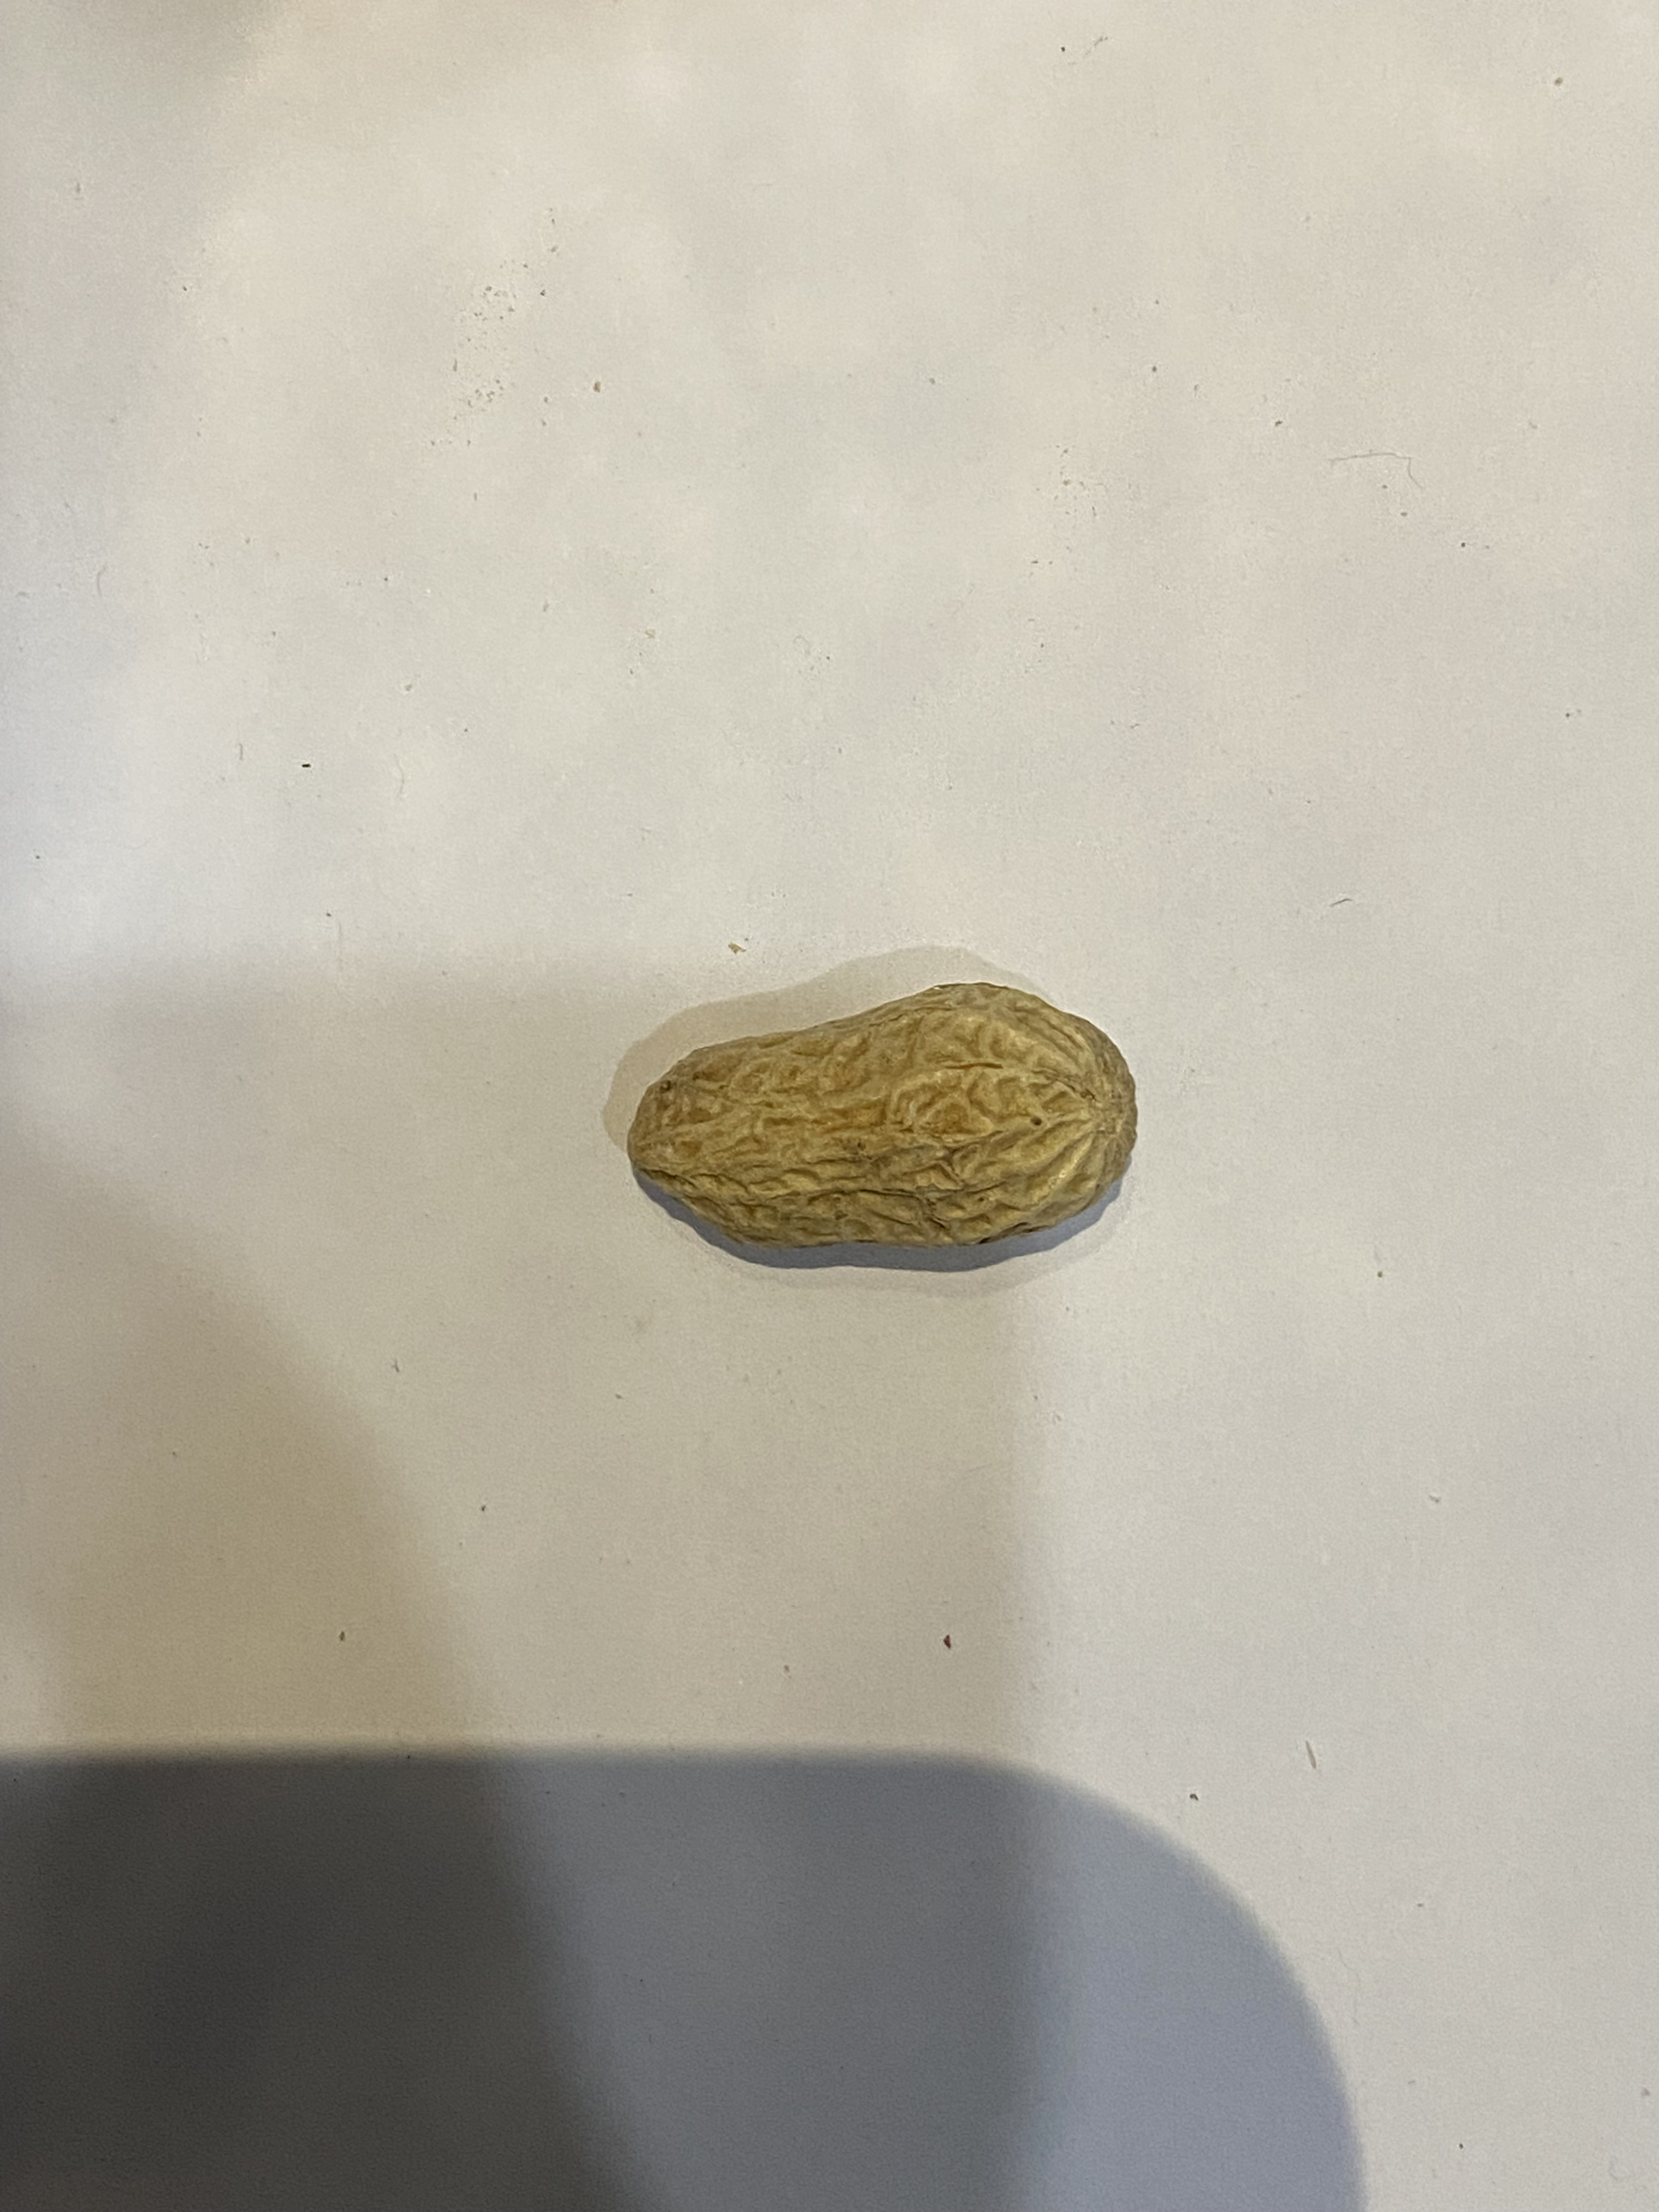kacang1: (626, 963, 1161, 1258)
